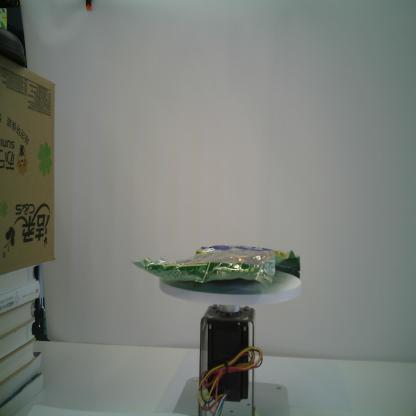Dried Food: (131, 244, 301, 288)
